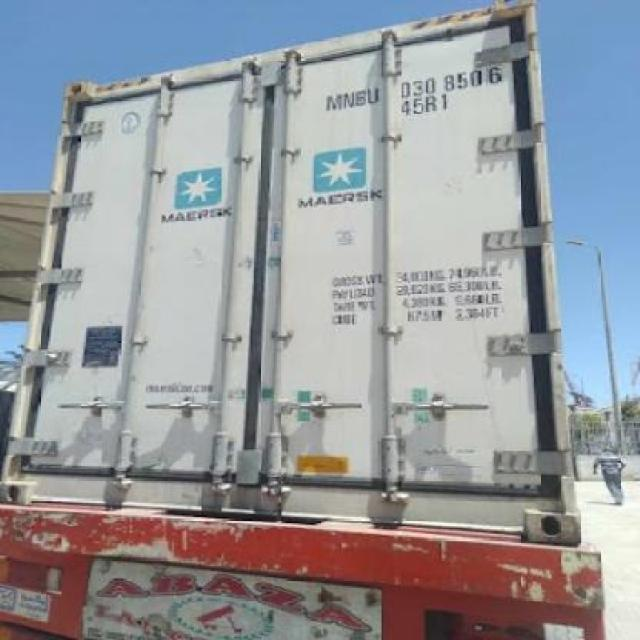ISO: (397, 94, 452, 118)
container_number: (322, 65, 502, 111)
